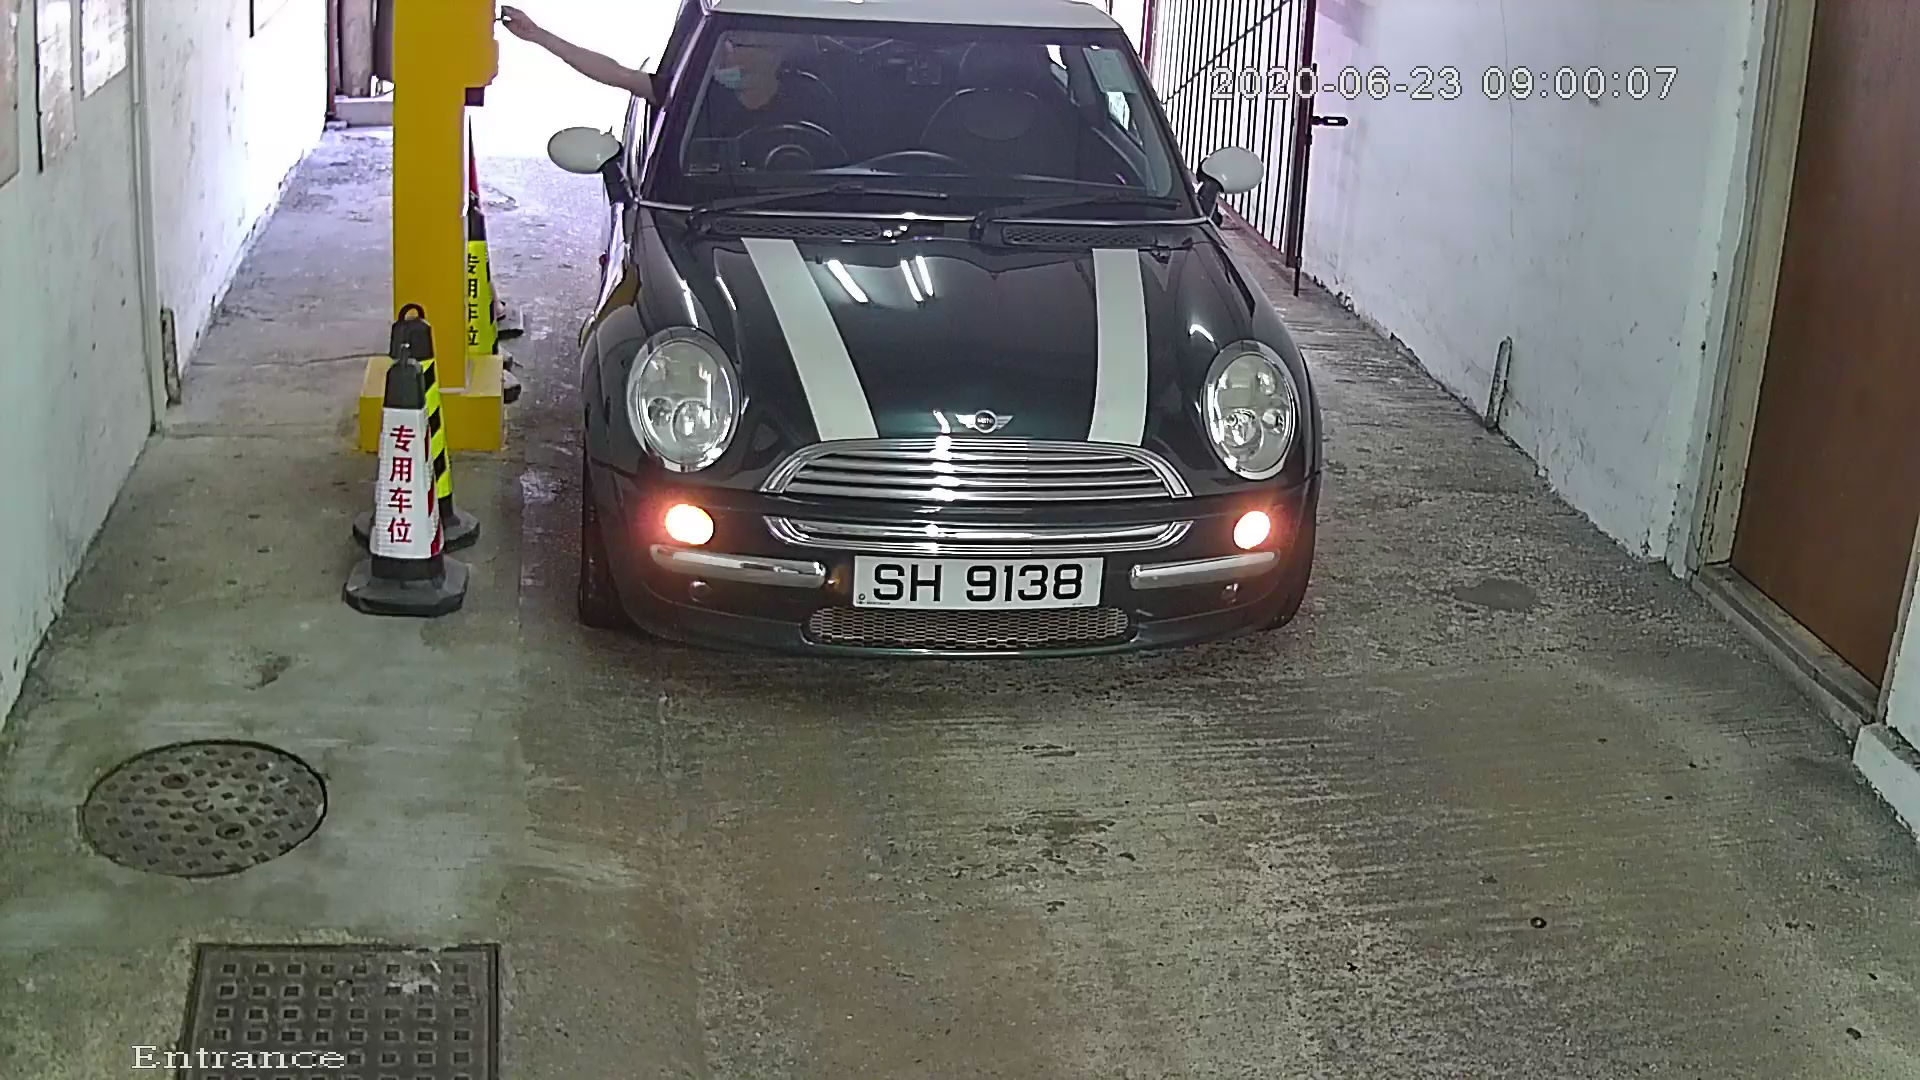privatecar: (516, 3, 1390, 732)
